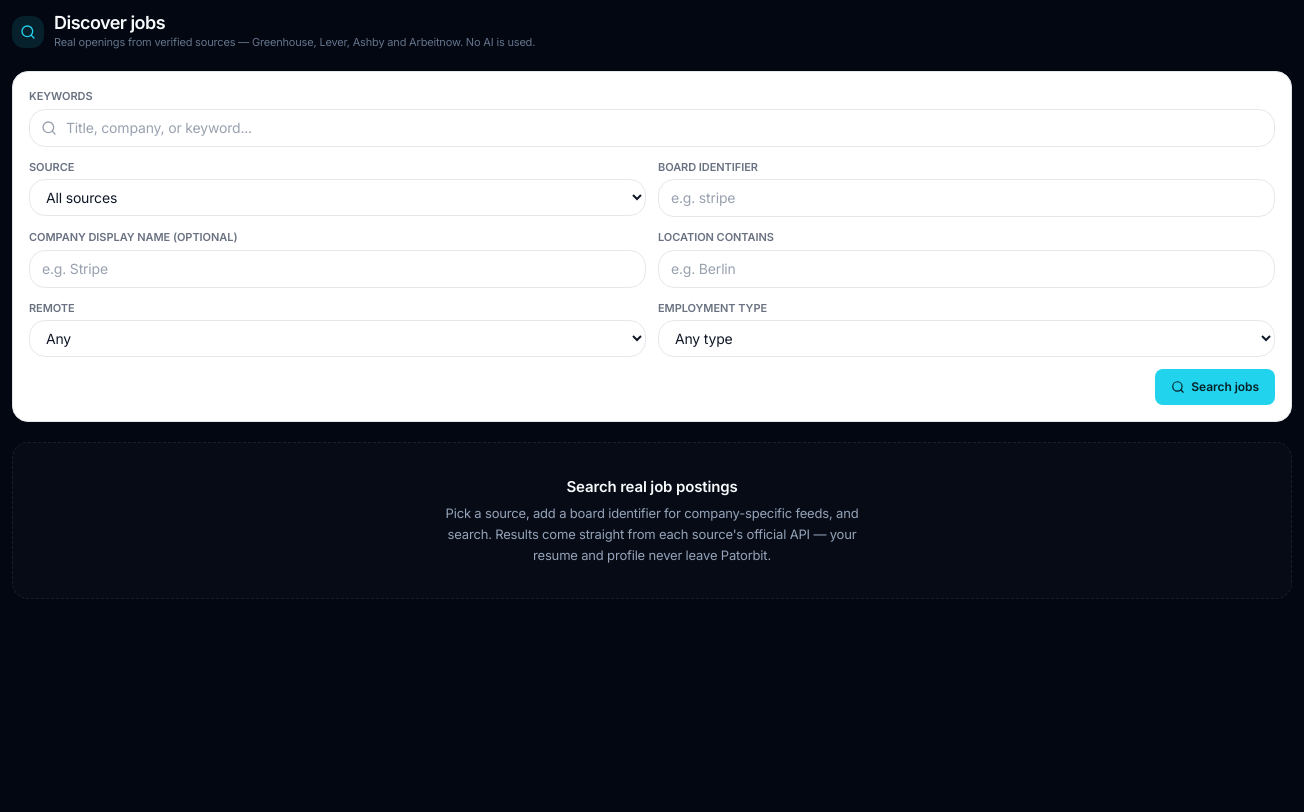
it: M7C provenance display › says 'Not yet confirmed' instead of inventing a confirmation time
The image size is (1304, 812).
Click the button "Search jobs" at (1215, 387), box [1155,369,1275,405]
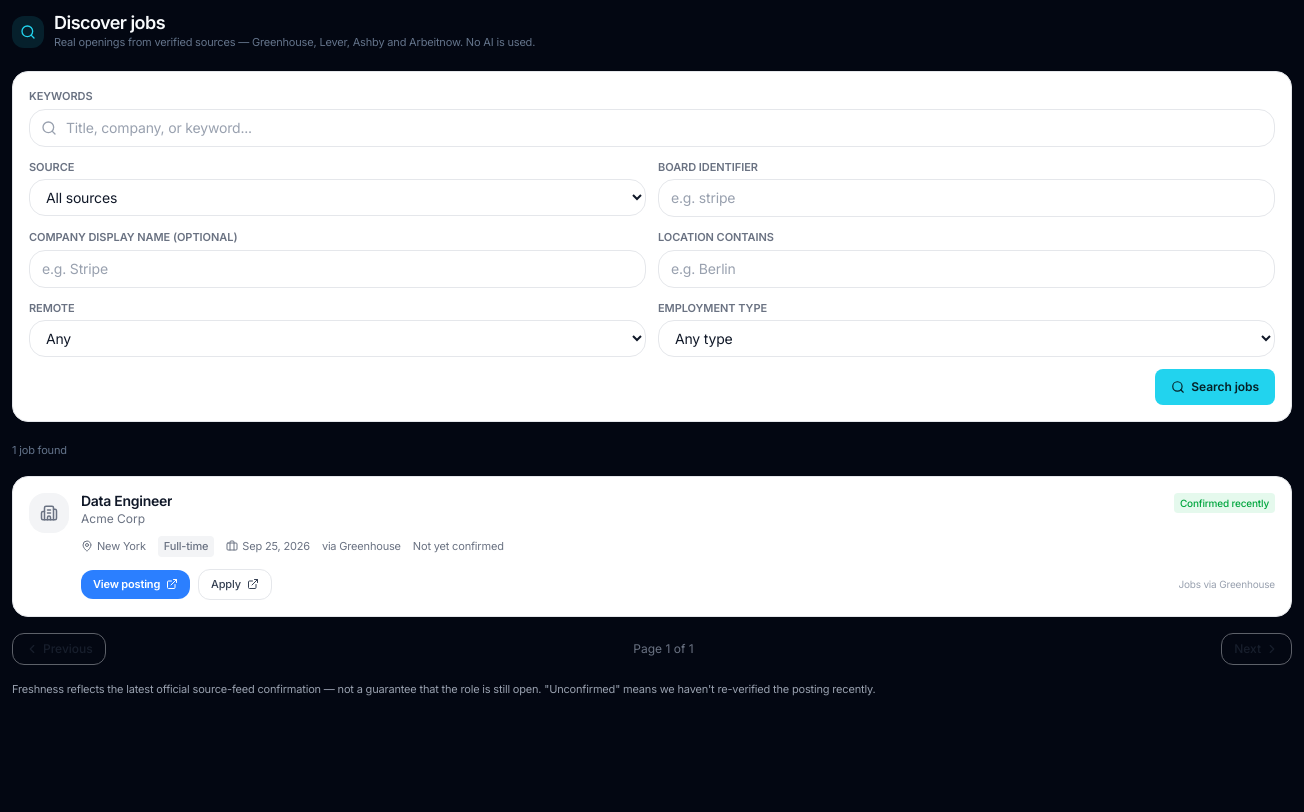
Expected: the text "Not yet confirmed" is shown, [413,538,504,555]
